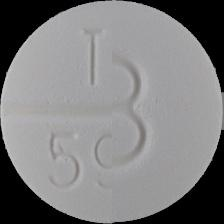0093-2067: (0, 0, 224, 224)
